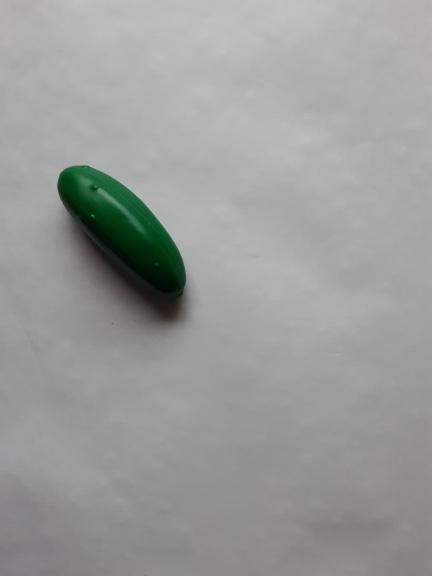cucumber: (48, 156, 198, 308)
